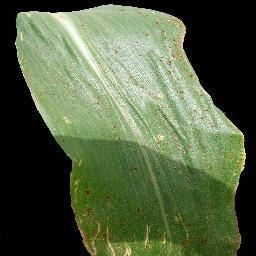Corn_Common_Rust: (58, 117, 256, 256), (137, 7, 234, 117), (82, 31, 117, 49), (115, 0, 137, 25), (0, 28, 34, 44), (86, 94, 106, 103)
